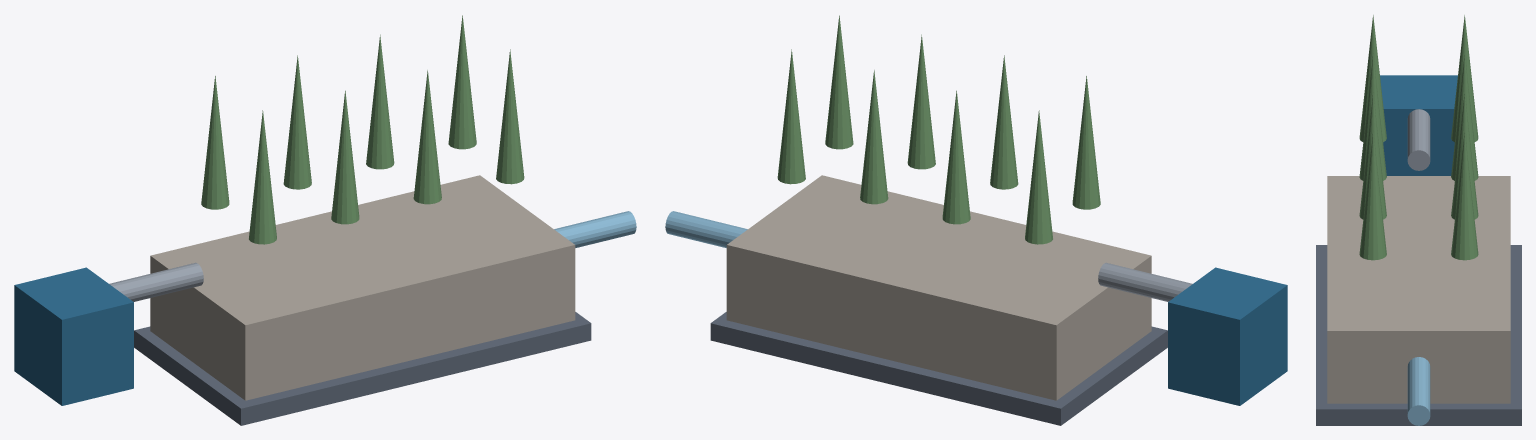
3 renders of one model, left to right at view 1: azimuth 30°, elevation 25°; view 2: azimuth 150°, elevation 25°; view 3: azimuth 270°, elevation 25°, orthographic. The views are drawn at different scales.
Parts seen in each view (by area): view 1: part_lecho, part_plantas, part_trampa_grasas, part_impermeabilizacion, part_entrada, part_salida_tratada; view 2: part_lecho, part_plantas, part_trampa_grasas, part_impermeabilizacion, part_entrada, part_salida_tratada; view 3: part_lecho, part_plantas, part_impermeabilizacion, part_trampa_grasas, part_salida_tratada, part_entrada.
Boxes of the visible parts, left/top/right/bottom form: part_lecho: left=150, top=175, right=575, bottom=400; part_plantas: left=201, top=15, right=524, bottom=244; part_trampa_grasas: left=14, top=267, right=133, bottom=405; part_impermeabilizacion: left=134, top=312, right=591, bottom=425; part_entrada: left=109, top=262, right=203, bottom=301; part_salida_tratada: left=554, top=211, right=636, bottom=247; part_lecho: left=726, top=175, right=1151, bottom=400; part_plantas: left=777, top=15, right=1100, bottom=244; part_trampa_grasas: left=1168, top=267, right=1287, bottom=405; part_impermeabilizacion: left=710, top=312, right=1167, bottom=425; part_entrada: left=1098, top=262, right=1192, bottom=301; part_salida_tratada: left=665, top=211, right=747, bottom=247; part_lecho: left=1327, top=176, right=1510, bottom=403; part_plantas: left=1359, top=15, right=1478, bottom=260; part_impermeabilizacion: left=1316, top=245, right=1521, bottom=425; part_trampa_grasas: left=1380, top=75, right=1457, bottom=175; part_salida_tratada: left=1407, top=357, right=1430, bottom=425; part_entrada: left=1407, top=109, right=1430, bottom=170.
Size of the model in its own units: 2.88 by 1.31 by 0.9.
